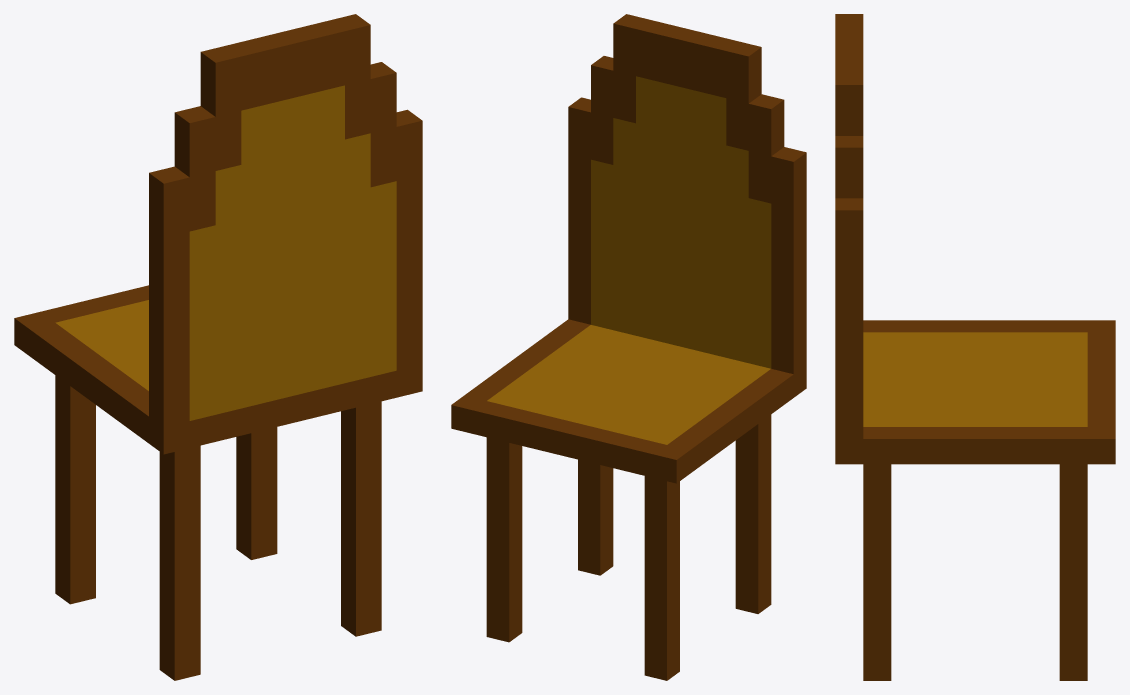
Rendered from Chair.obj.
3 renders of one model, left to right at view 1: azimuth 30°, elevation 25°; view 2: azimuth 150°, elevation 25°; view 3: azimuth 270°, elevation 25°, orthographic. The views are drawn at different scales.
Size of the model in its own units: 1 by 2.3 by 1.
1 material, 1 textured.
